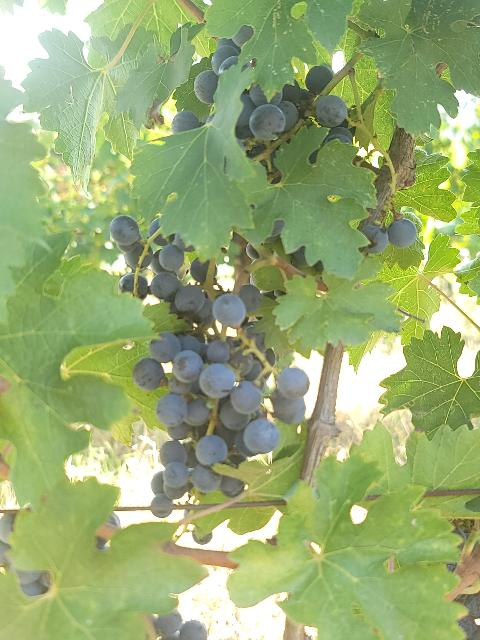grapes: (132, 332, 280, 505), (236, 65, 334, 141), (175, 285, 261, 328), (269, 368, 310, 424)
